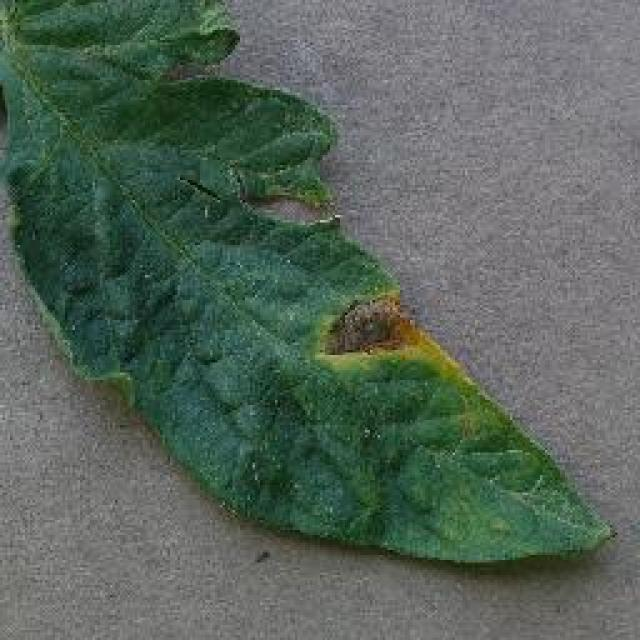Tomato___Early_blight: (0, 0, 619, 569)
